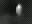person: (16, 4, 24, 19)
